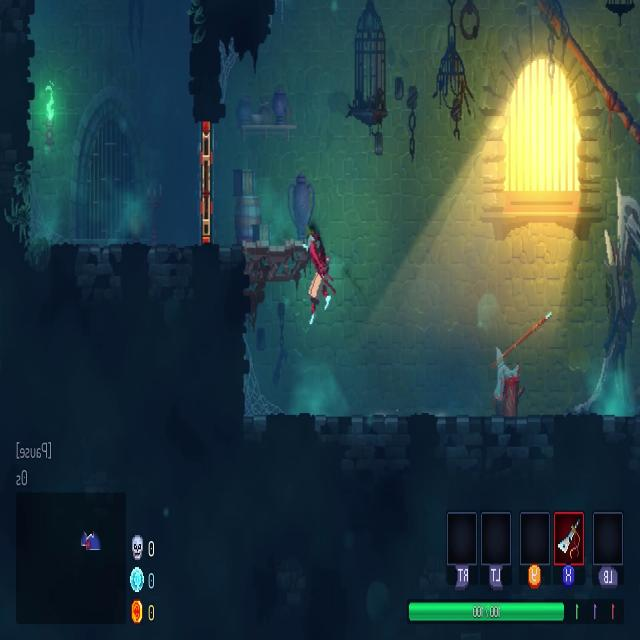agents: (302, 228, 331, 323)
door_regular: (195, 118, 216, 248)
